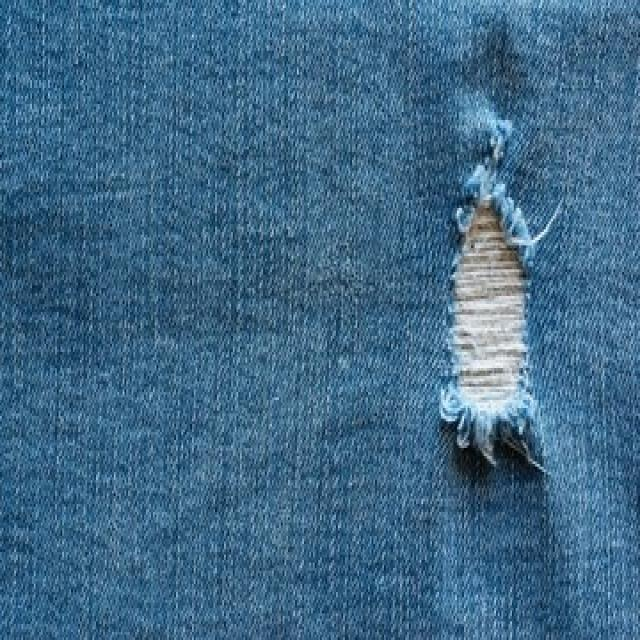Hole: (442, 158, 545, 472)
